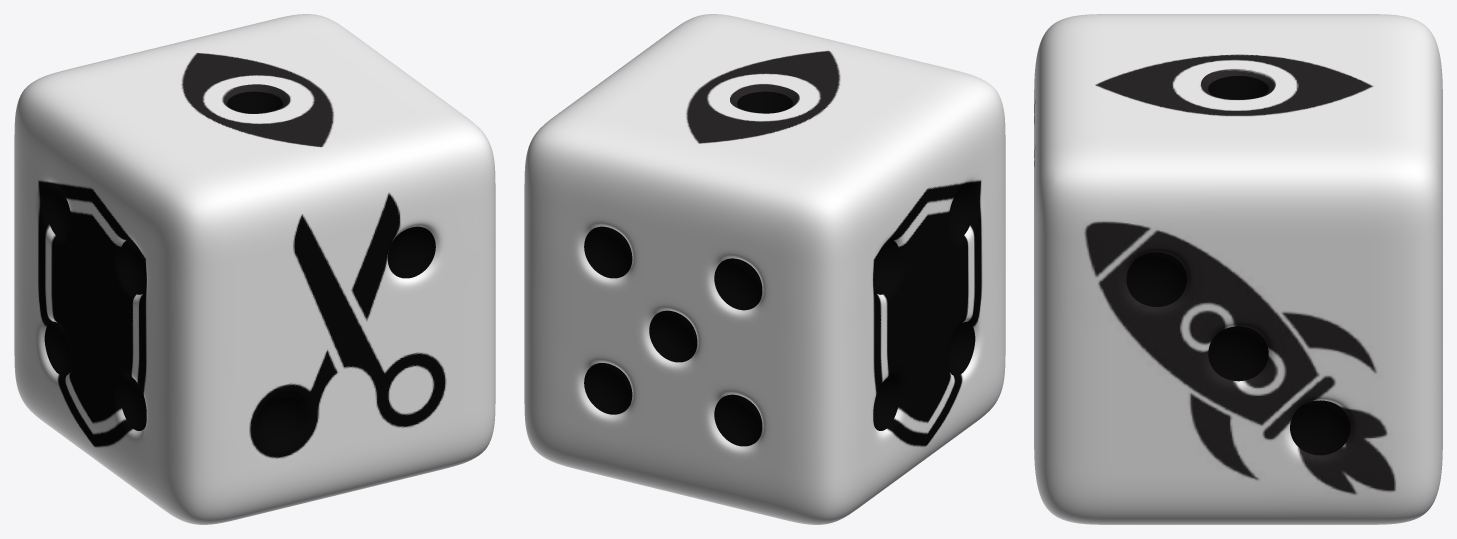
The model's file is Dice 4 Sides.fbx.
3 views of the same model, side by side, from view 1: azimuth 30°, elevation 25°; view 2: azimuth 150°, elevation 25°; view 3: azimuth 270°, elevation 25° (orthographic). The views are drawn at different scales.
Visible parts, largest first — view 1: Cube; view 2: Cube; view 3: Cube.
Boxes of the visible parts, x1,y1,x2,y2 form: Cube: (14, 14, 495, 524); Cube: (524, 14, 1005, 524); Cube: (1034, 14, 1442, 524).
Size of the model in its own units: 100 by 100 by 100.
